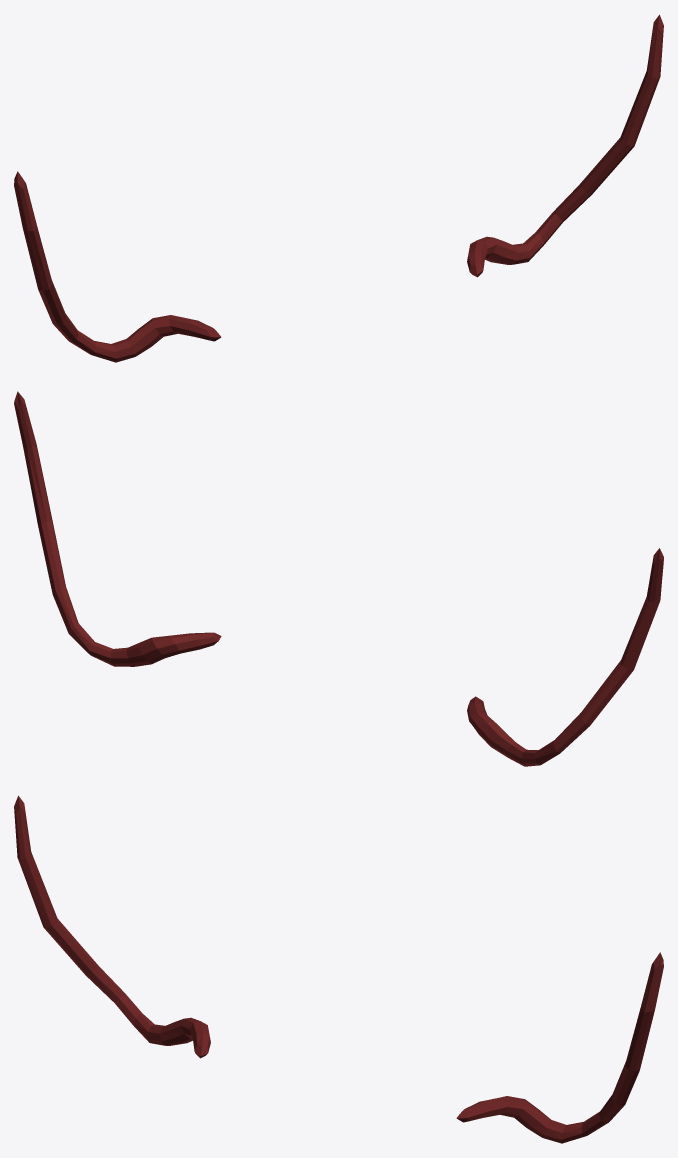
Rendered from Artéria Glútea Superior.FBX.
3 renders of one model, top to bottom at view 1: azimuth 30°, elevation 25°; view 2: azimuth 150°, elevation 25°; view 3: azimuth 330°, elevation 25°, orthographic.
Parts seen in each view (by area): view 1: CS_Arterie; view 2: CS_Arterie; view 3: CS_Arterie.
Boxes of the visible parts, box(x1,y1,x2,y2) form: CS_Arterie: box(14, 14, 663, 362); CS_Arterie: box(14, 391, 663, 766); CS_Arterie: box(14, 795, 663, 1143).
Size of the model in its own units: 504 by 173 by 49.87.
